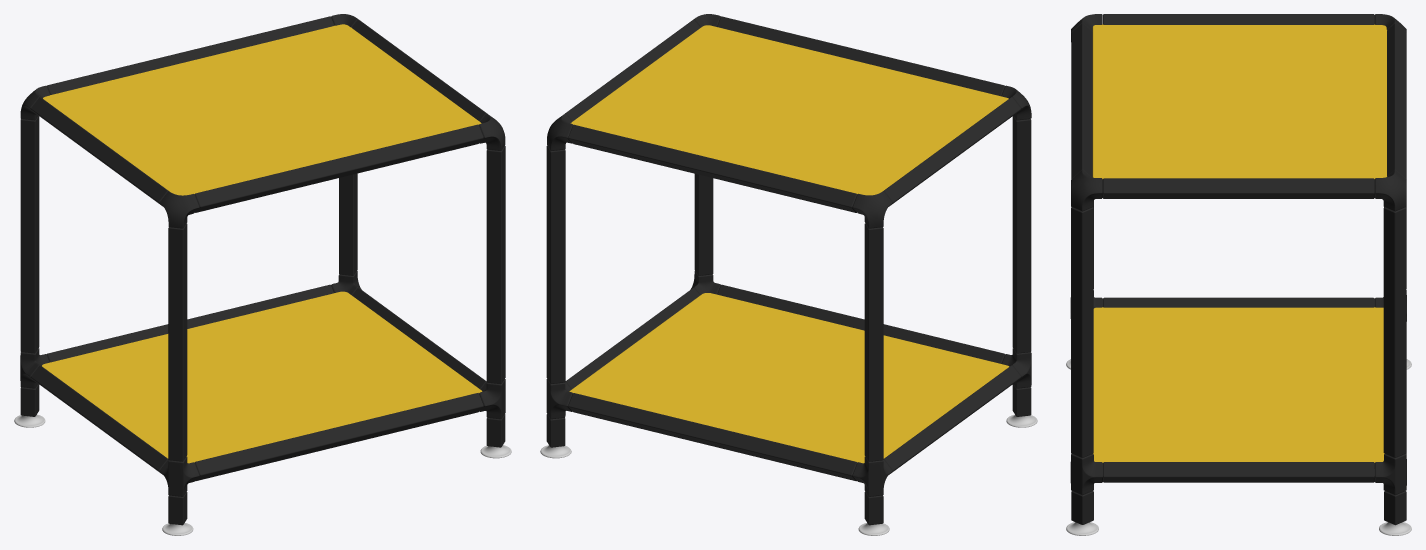
The picture shows the model from 3 angles, left to right: view 1: azimuth 30°, elevation 25°; view 2: azimuth 150°, elevation 25°; view 3: azimuth 270°, elevation 25°; orthographic projection. The views are drawn at different scales.
Parts seen in each view (by area): view 1: 420x329x330; view 2: 420x329x330; view 3: 420x329x330.
Part boxes in pixels (x1,y1,x2,y2): 420x329x330: (14, 14, 511, 535); 420x329x330: (540, 14, 1037, 535); 420x329x330: (1066, 14, 1411, 535).
Size of the model in its own units: 0.5099 by 0.4683 by 0.4182.
